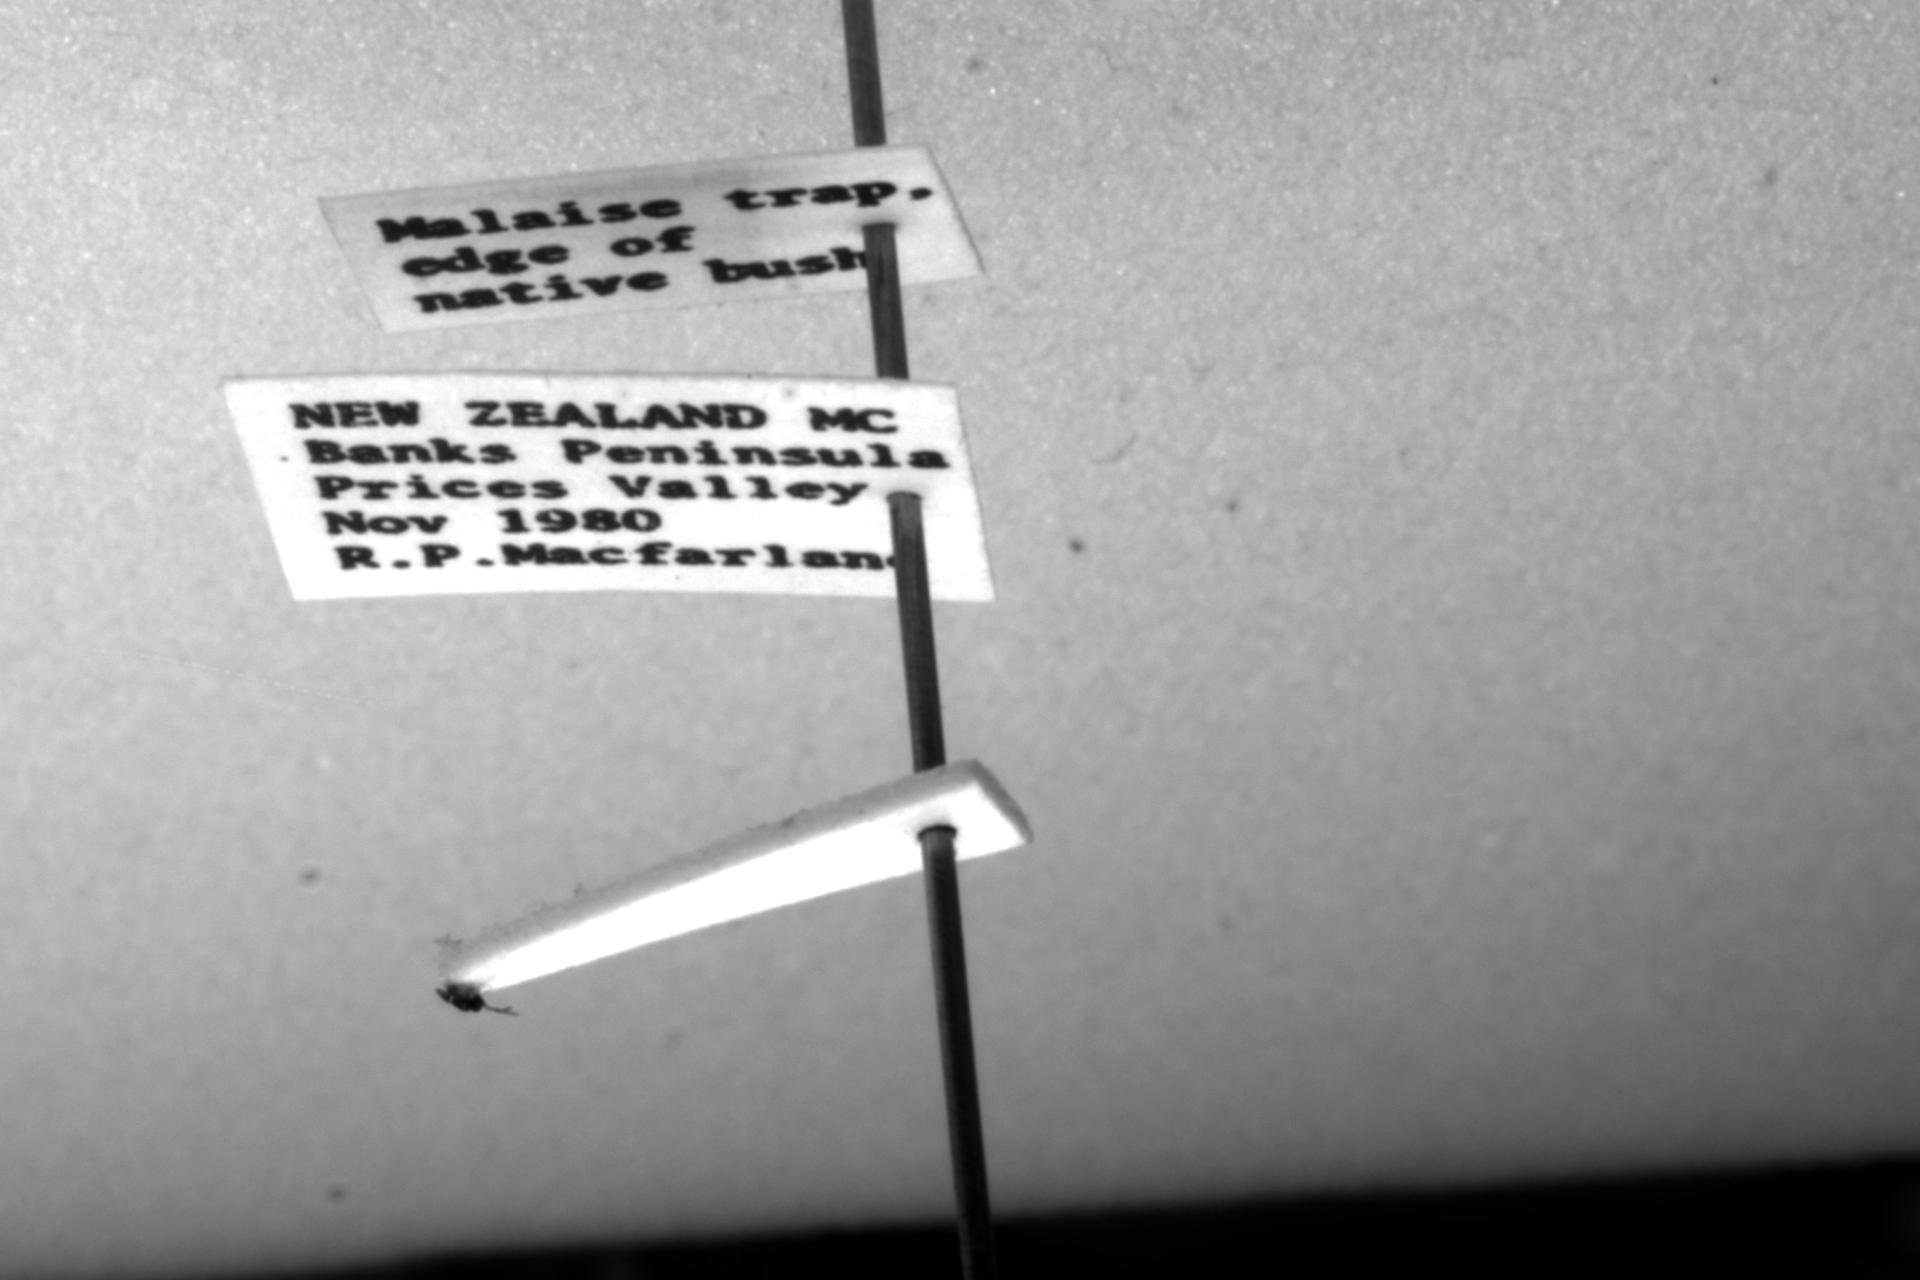typed_label: (226, 374, 994, 600), (323, 146, 983, 334)
